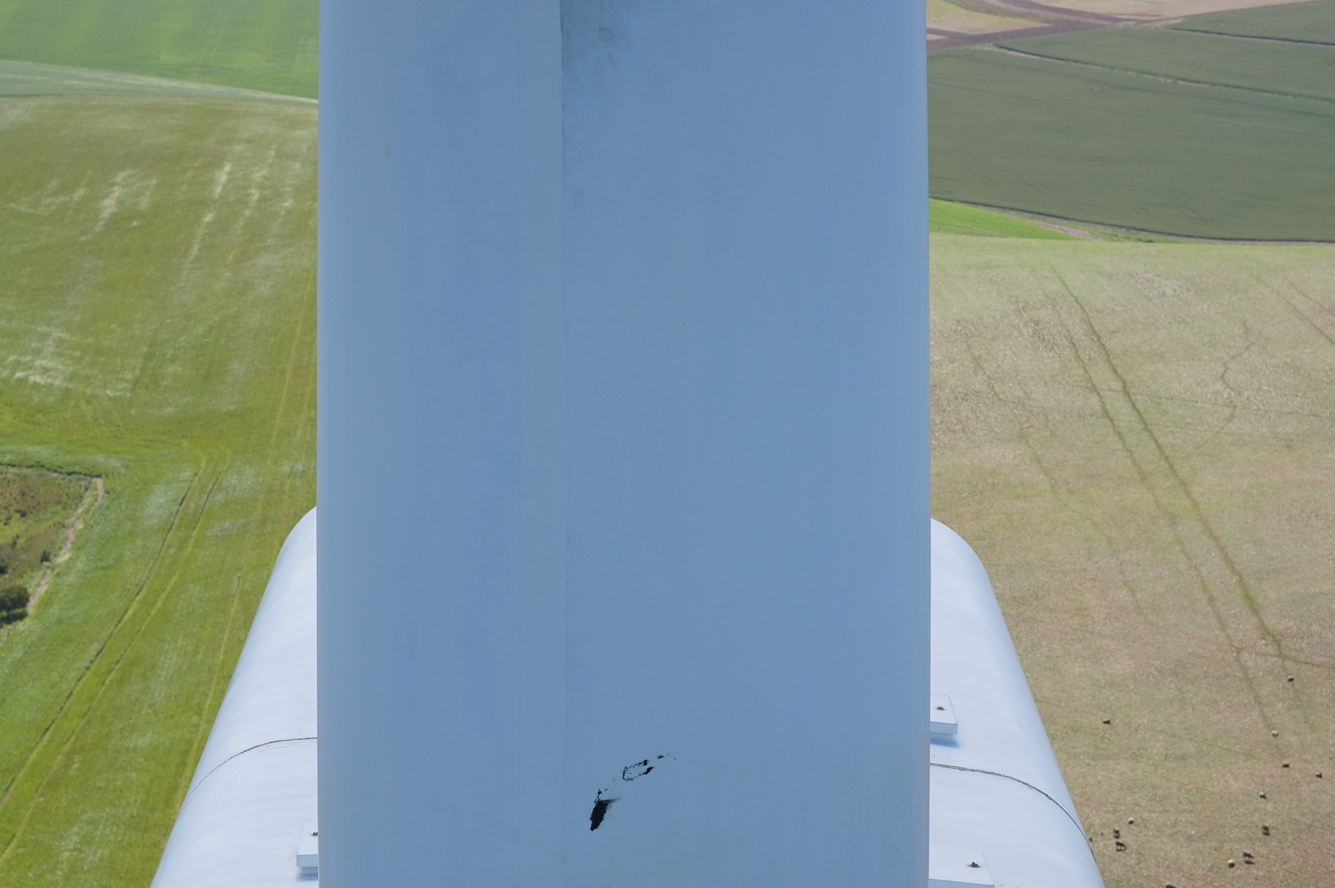Dirt: (587, 789, 617, 835)
